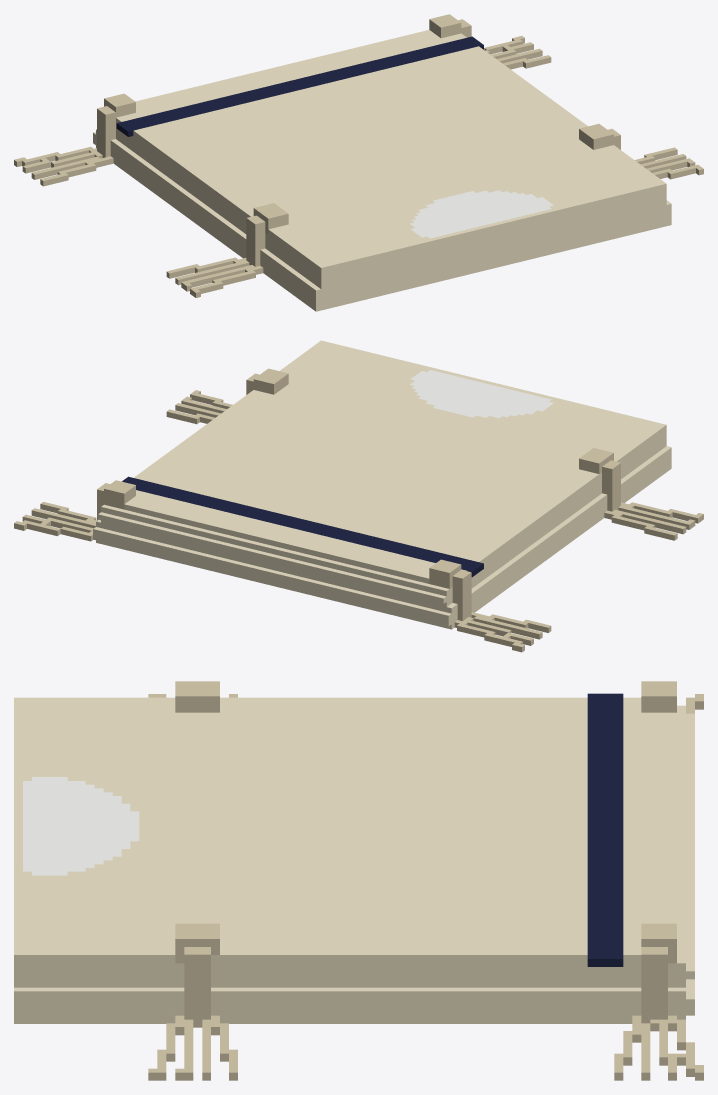
File: tallit_katan.glb
3 renders of one model, top to bottom at view 1: azimuth 30°, elevation 25°; view 2: azimuth 150°, elevation 25°; view 3: azimuth 270°, elevation 25°, orthographic. The views are drawn at different scales.
Parts seen in each view (by area): view 1: tallit_katan:compound; view 2: tallit_katan:compound; view 3: tallit_katan:compound.
Part boxes in pixels (bbox=[...]): tallit_katan:compound: bbox=[14, 14, 703, 311]; tallit_katan:compound: bbox=[14, 340, 703, 652]; tallit_katan:compound: bbox=[14, 681, 703, 1080].
Bounding box in the file's own units: 0.4 × 0.04 × 0.308.
